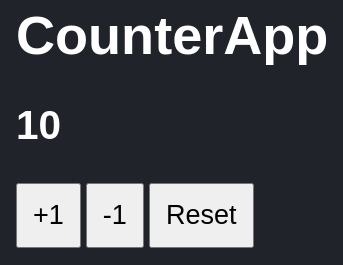
Scenario: Pruebas en <CounterApp /> › debe de funcionar el boton de reset
Click the button "+1" at (48, 216), box [16,183,81,248]
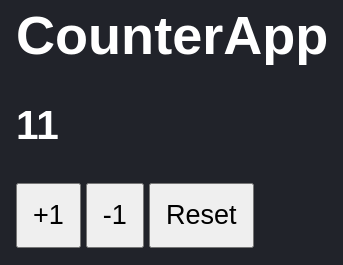
Click the button "+1" at (48, 216), box [16,183,81,248]
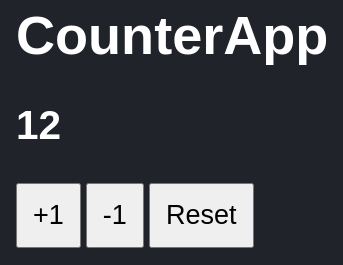
Click the button "+1" at (48, 216), box [16,183,81,248]
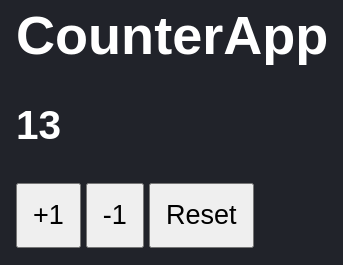
Click the button with aria-label "btn-reset" at (201, 216), box [149,183,254,248]
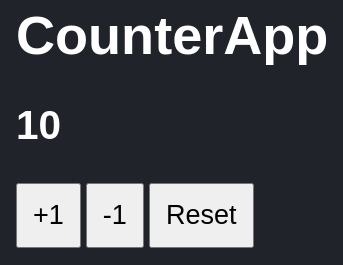
Now the heading "10" is shown, box [16,102,61,148]
